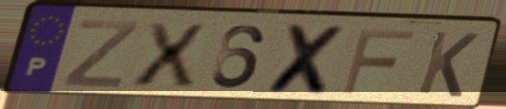6: (210, 23, 268, 93)
F: (337, 27, 417, 97)
K: (413, 28, 483, 100)
X: (263, 21, 352, 99), (128, 20, 209, 90)
Z: (59, 18, 142, 90)
